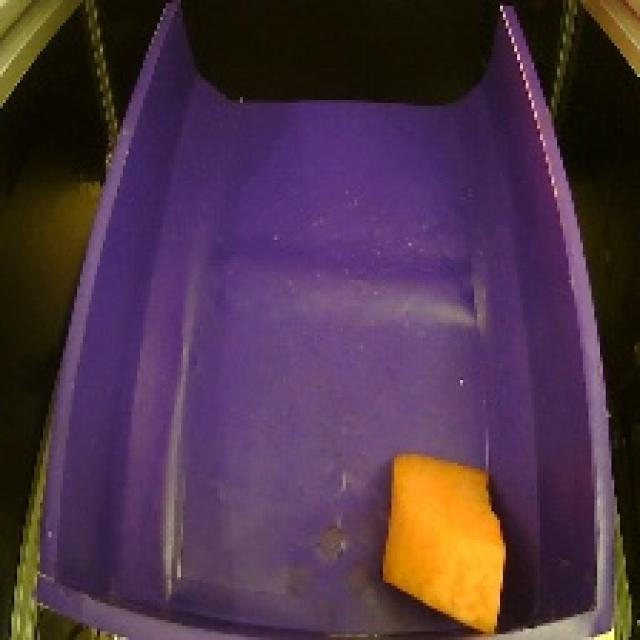carrots: (366, 443, 511, 640)
